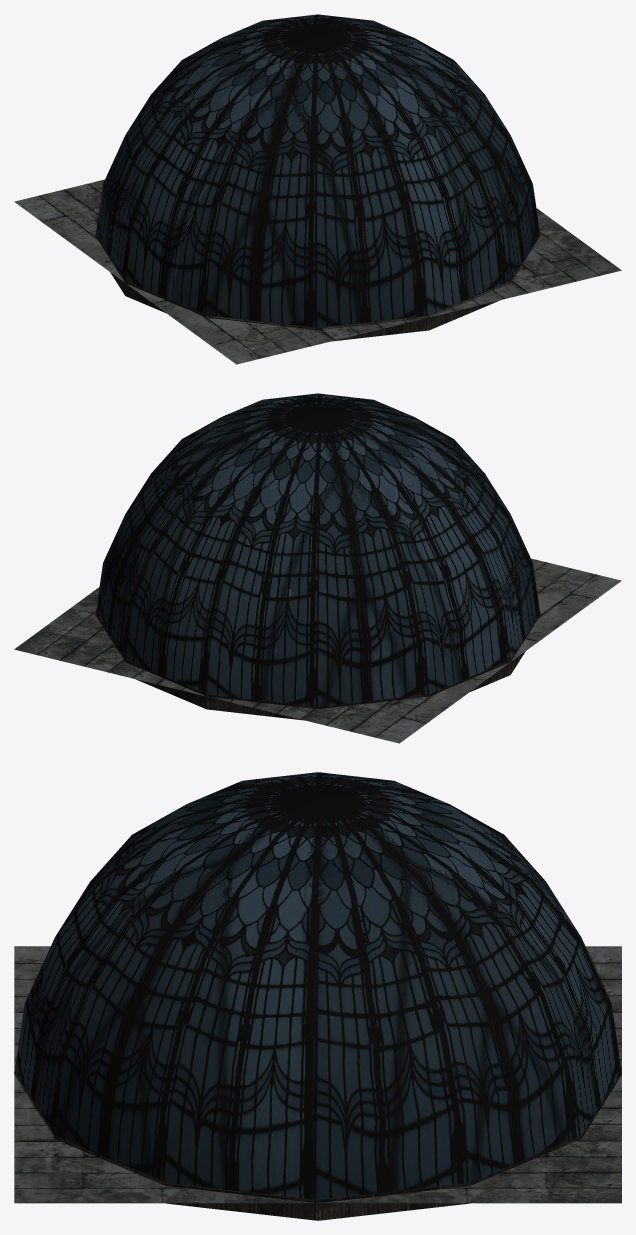
The model's file is glass_dome_castle.dae.
The picture shows the model from 3 angles, top to bottom: view 1: azimuth 30°, elevation 25°; view 2: azimuth 150°, elevation 25°; view 3: azimuth 270°, elevation 25°; orthographic projection. The views are drawn at different scales.
Visible parts, largest first — view 1: polySurface3, polySurface4, polySurface5; view 2: polySurface3, polySurface4, polySurface5; view 3: polySurface3, polySurface4, polySurface5.
Boxes of the visible parts, x1,y1,x2,y2 form: polySurface3: [96, 14, 539, 327]; polySurface4: [14, 179, 621, 364]; polySurface5: [95, 233, 540, 341]; polySurface3: [96, 393, 539, 706]; polySurface4: [14, 558, 621, 743]; polySurface5: [95, 612, 540, 720]; polySurface3: [14, 772, 621, 1199]; polySurface4: [14, 946, 621, 1203]; polySurface5: [14, 1071, 621, 1220].
Bounding box in the file's own units: 800 × 426 × 800.
